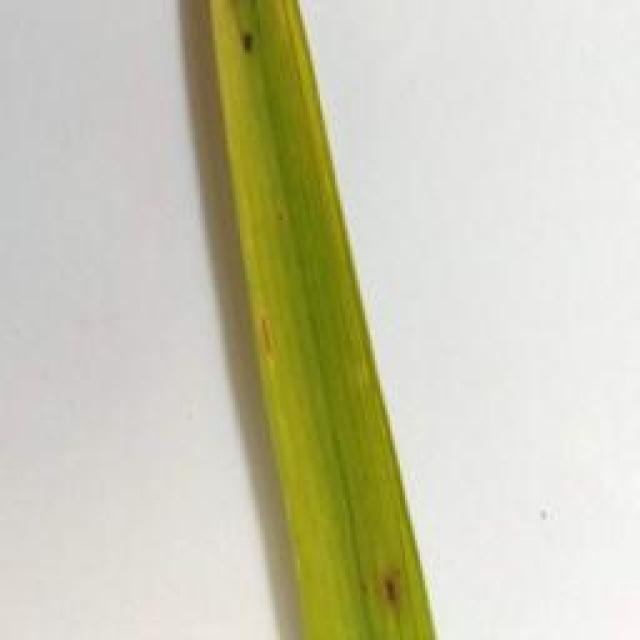Brown_Spot: (372, 556, 410, 612), (254, 308, 292, 362), (236, 26, 262, 57)
